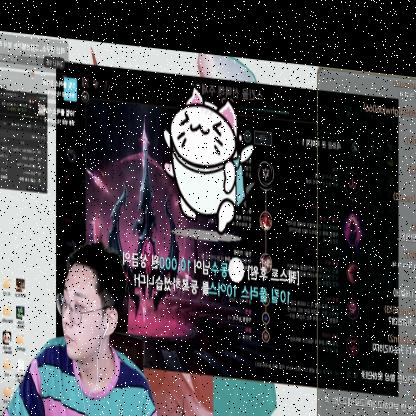donation: (119, 76, 300, 300)
streamer: (0, 230, 162, 416)
